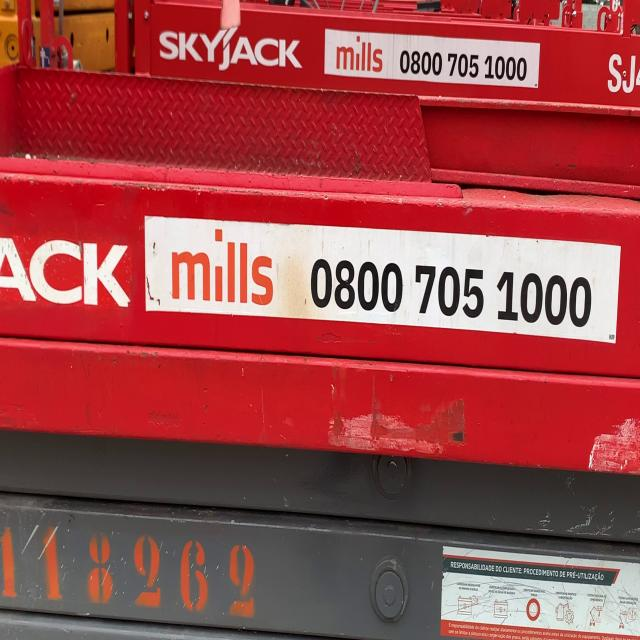Adesivo Longo: (145, 210, 625, 348), (322, 26, 542, 91)
